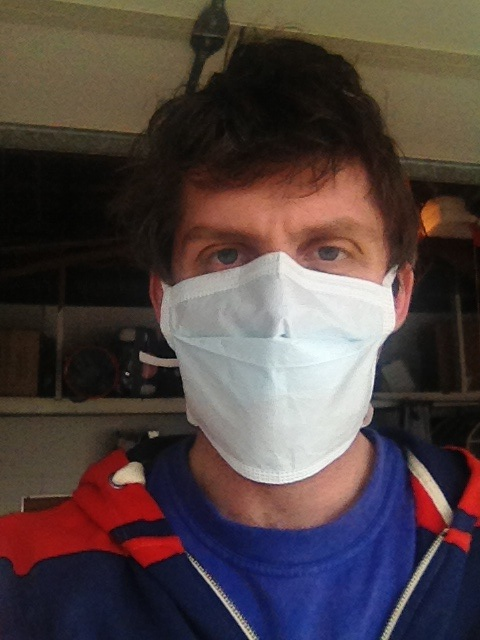mask: (150, 264, 382, 478)
